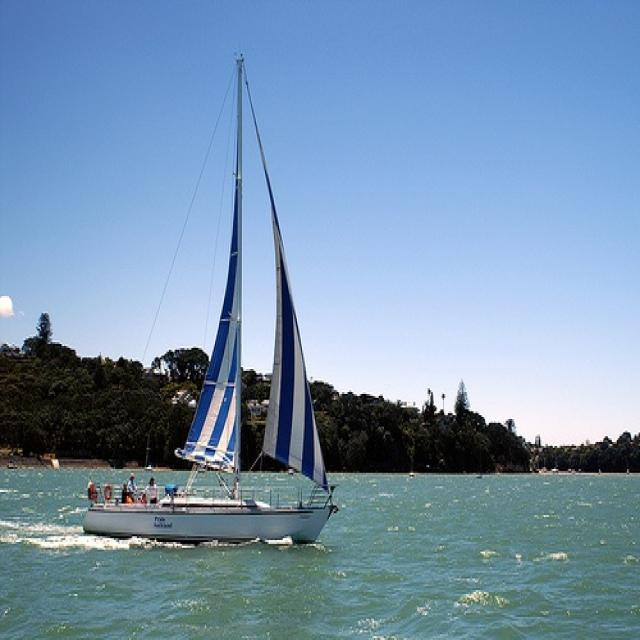boat: (76, 35, 348, 542)
